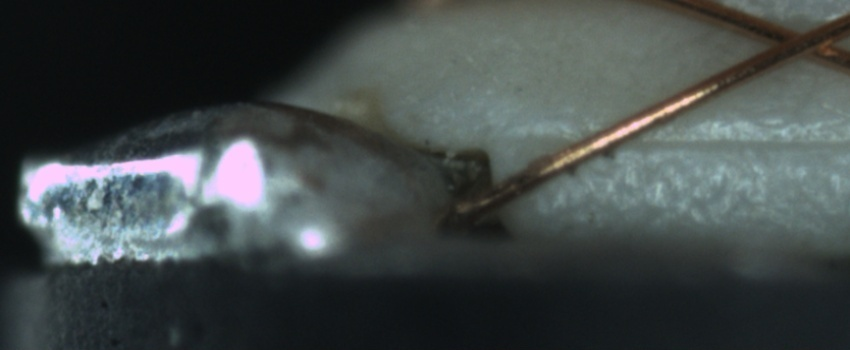CL: (751, 10, 845, 66)
DL: (534, 109, 850, 173)
